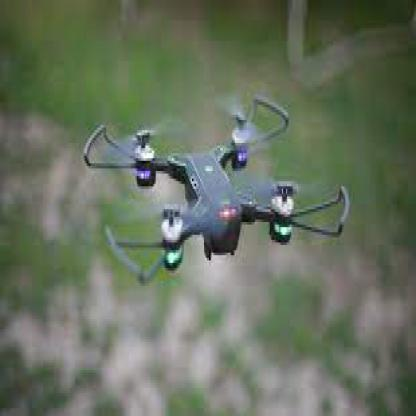UAS: (84, 94, 350, 283)
